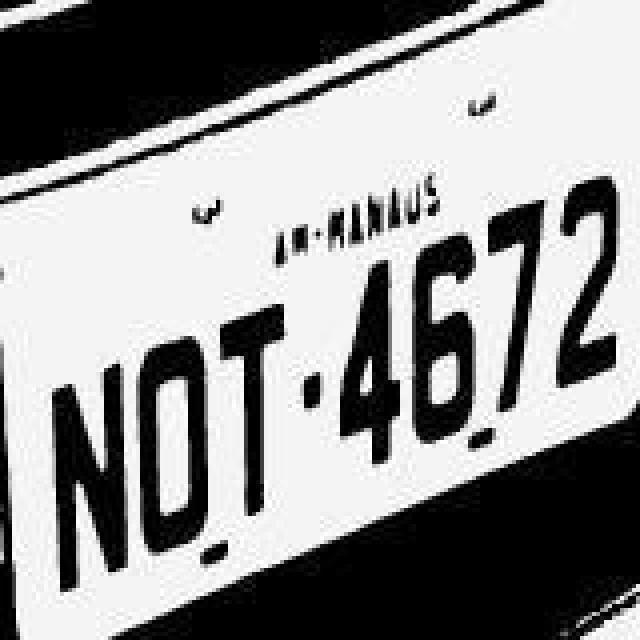2: (552, 162, 632, 390)
4: (336, 244, 408, 508)
6: (404, 226, 484, 454)
7: (480, 186, 552, 422)
N: (46, 342, 130, 618)
O: (132, 310, 212, 570)
T: (214, 280, 290, 544)
